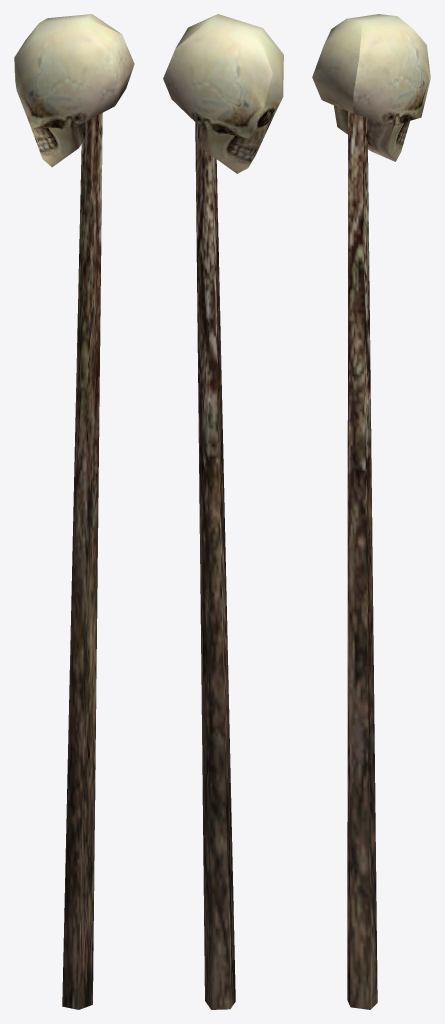
Rendered from hr_ps_bone5.glb.
3 renders of one model, left to right at view 1: azimuth 30°, elevation 25°; view 2: azimuth 210°, elevation 25°; view 3: azimuth 270°, elevation 25°, orthographic.
Visible parts, largest first — view 1: hr_ps_bone5; view 2: hr_ps_bone5; view 3: hr_ps_bone5.
Boxes of the visible parts, x1,y1,x2,y2 form: hr_ps_bone5: (14,14,134,1009); hr_ps_bone5: (163,14,283,1009); hr_ps_bone5: (312,14,430,1009).
Bounding box in the file's own units: 0.3762 × 3.44 × 0.3742.
Materials: 2 (2 with a texture image).
